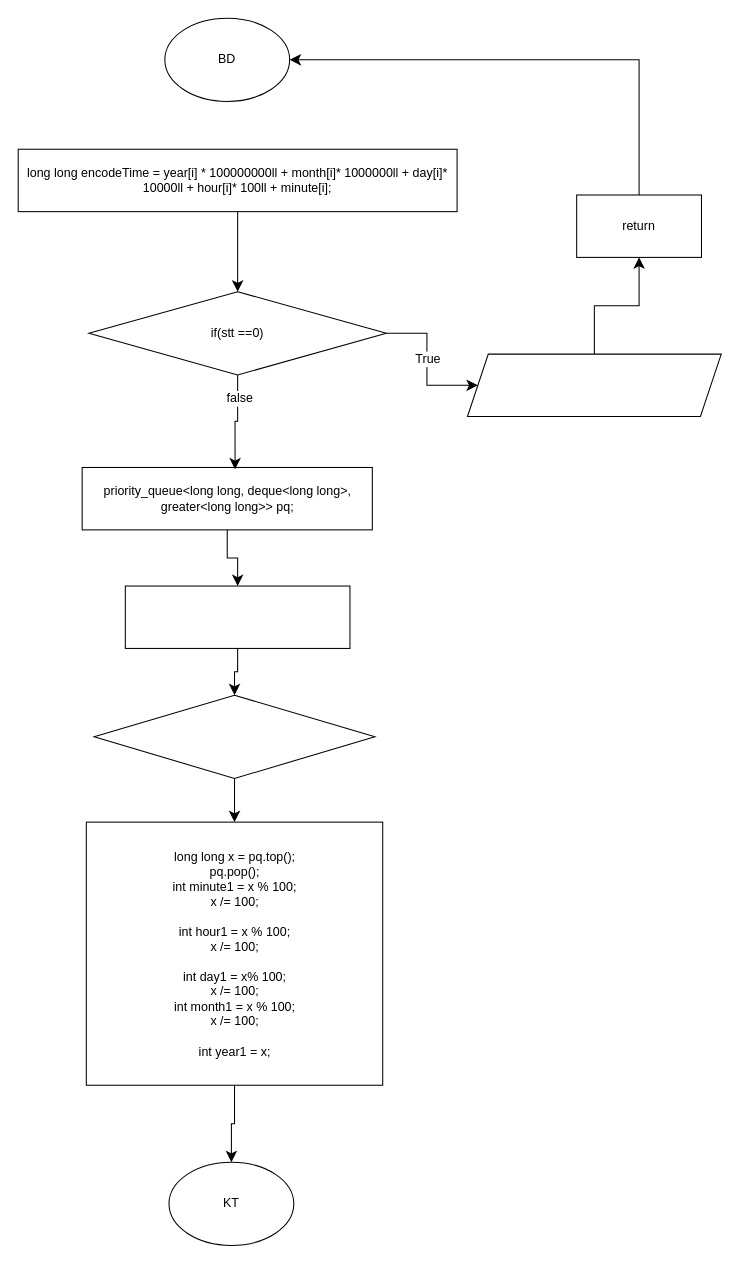
The diagram is 739 pixels wide and 1264 high, and some of its shapes have lost their labels. Here are the shapes that lost their labels. From the top down, the centre of each, then its label:
At pixel 593 385: "Khong co du lieu".
At pixel 237 616: "for(int i =0; i<stt; i++){ pq.push(encodeTime(i)); }".
At pixel 234 736: "while(!pq.empty())".
